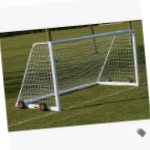goals: (13, 29, 142, 113)
